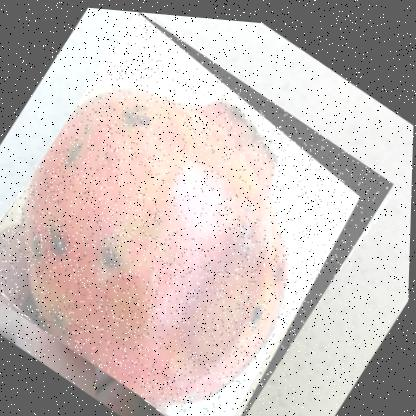pomegranate_rotten: (0, 0, 402, 415)
